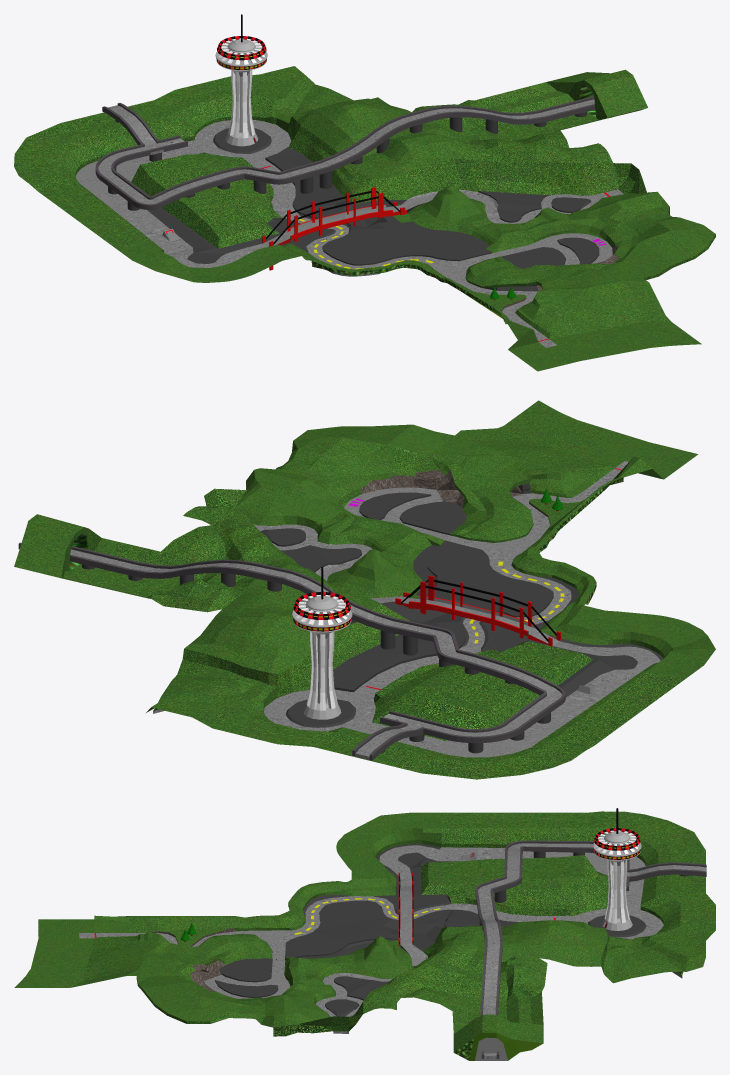
File: Highway.fbx
3 views of the same model, one above another, from view 1: azimuth 30°, elevation 25°; view 2: azimuth 150°, elevation 25°; view 3: azimuth 270°, elevation 25° (orthographic). The views are drawn at different scales.
Parts seen in each view (by area): view 1: Course; view 2: Course; view 3: Course.
Boxes of the visible parts, x1,y1,x2,y2 form: Course: (14,14,715,371); Course: (14,400,715,779); Course: (14,808,715,1060).
Size of what is drawn, in the model's own units: 44139 by 11488 by 52783.
21 materials, 3 textured.
